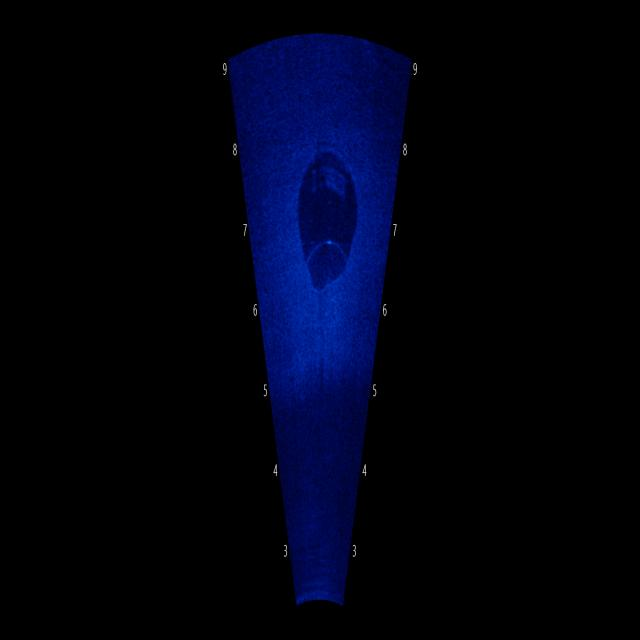circle: (293, 128, 372, 309)
